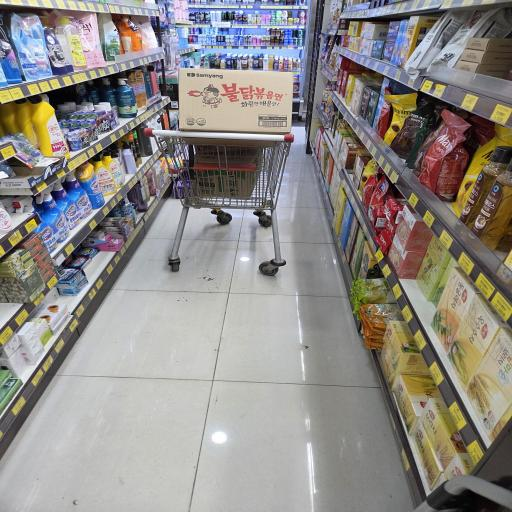fully_cart: (147, 61, 300, 281)
